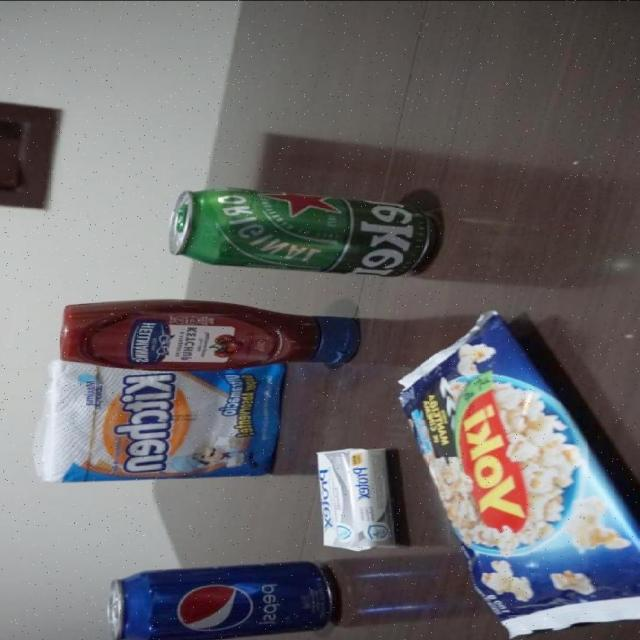BeerCan: (163, 184, 446, 278)
Ketchup: (59, 295, 366, 372)
Napkin: (30, 360, 289, 487)
Popcorn: (395, 310, 640, 640)
Soap: (312, 445, 399, 552)
SodaCan: (104, 557, 340, 640)
